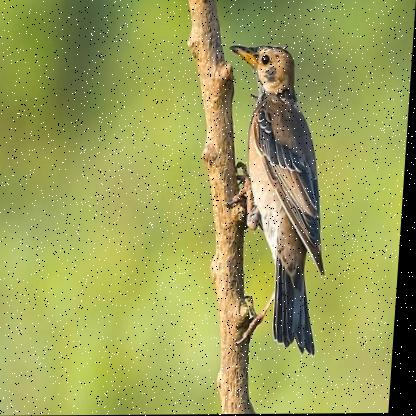Burung: (212, 41, 348, 354)
